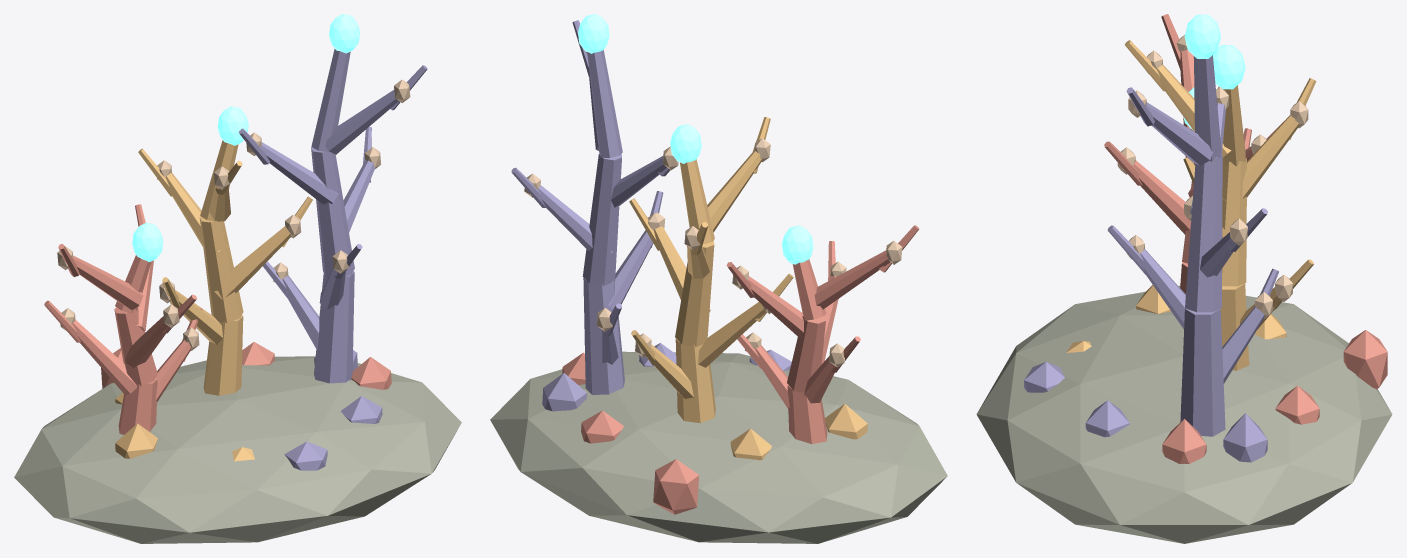
The model's file is chord-coral.glb.
3 views of the same model, side by side, from view 1: azimuth 30°, elevation 25°; view 2: azimuth 150°, elevation 25°; view 3: azimuth 270°, elevation 25° (orthographic). The views are drawn at different scales.
Visible parts, largest first — view 1: Static_Limestone_shadow, Static_Coral_lilac, Static_Coral_amber, Static_Coral_salmon, Static_Coral_light, Resonance pearl.002, Resonance pearl, Resonance pearl.001; view 2: Static_Limestone_shadow, Static_Coral_lilac, Static_Coral_amber, Static_Coral_salmon, Static_Coral_light, Resonance pearl.002, Resonance pearl.001, Resonance pearl; view 3: Static_Limestone_shadow, Static_Coral_lilac, Static_Coral_amber, Static_Coral_salmon, Static_Coral_light, Resonance pearl.002, Resonance pearl.001.
Part boxes in pixels (<box>): Static_Limestone_shadow: <box>14,356,461,543</box>; Static_Coral_lilac: <box>239,49,427,470</box>; Static_Coral_amber: <box>115,140,312,461</box>; Static_Coral_salmon: <box>44,204,391,434</box>; Static_Coral_light: <box>57,79,410,350</box>; Resonance pearl.002: <box>329,14,359,53</box>; Resonance pearl: <box>132,223,163,262</box>; Resonance pearl.001: <box>217,106,248,145</box>; Static_Limestone_shadow: <box>490,351,947,543</box>; Static_Coral_lilac: <box>511,20,791,411</box>; Static_Coral_amber: <box>629,117,867,460</box>; Static_Coral_salmon: <box>562,225,918,514</box>; Static_Coral_light: <box>524,52,902,367</box>; Resonance pearl.002: <box>578,14,609,53</box>; Resonance pearl.001: <box>670,124,701,163</box>; Resonance pearl: <box>782,225,813,264</box>; Static_Limestone_shadow: <box>976,285,1392,543</box>; Static_Coral_lilac: <box>1024,55,1278,462</box>; Static_Coral_amber: <box>1066,40,1316,370</box>; Static_Coral_salmon: <box>1104,14,1387,463</box>; Static_Coral_light: <box>1117,35,1308,318</box>; Resonance pearl.002: <box>1184,14,1220,58</box>; Resonance pearl.001: <box>1213,45,1245,89</box>.
Bounding box in the file's own units: 3.42 × 3.77 × 2.72.
